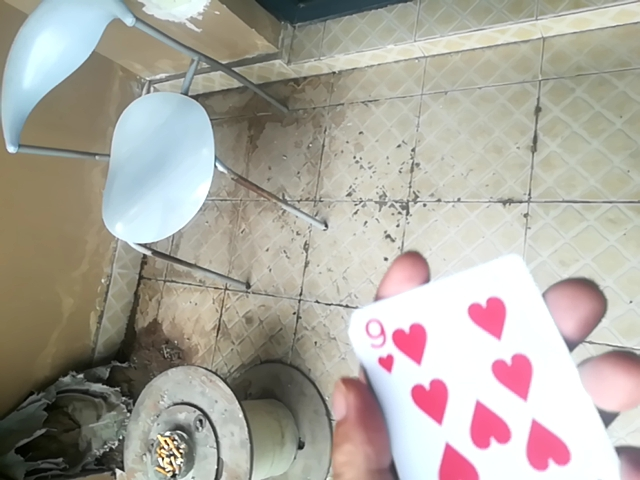hx 9: (354, 254, 637, 478)
